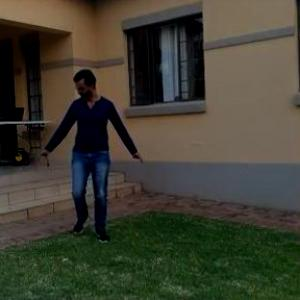land: (31, 55, 152, 253)
